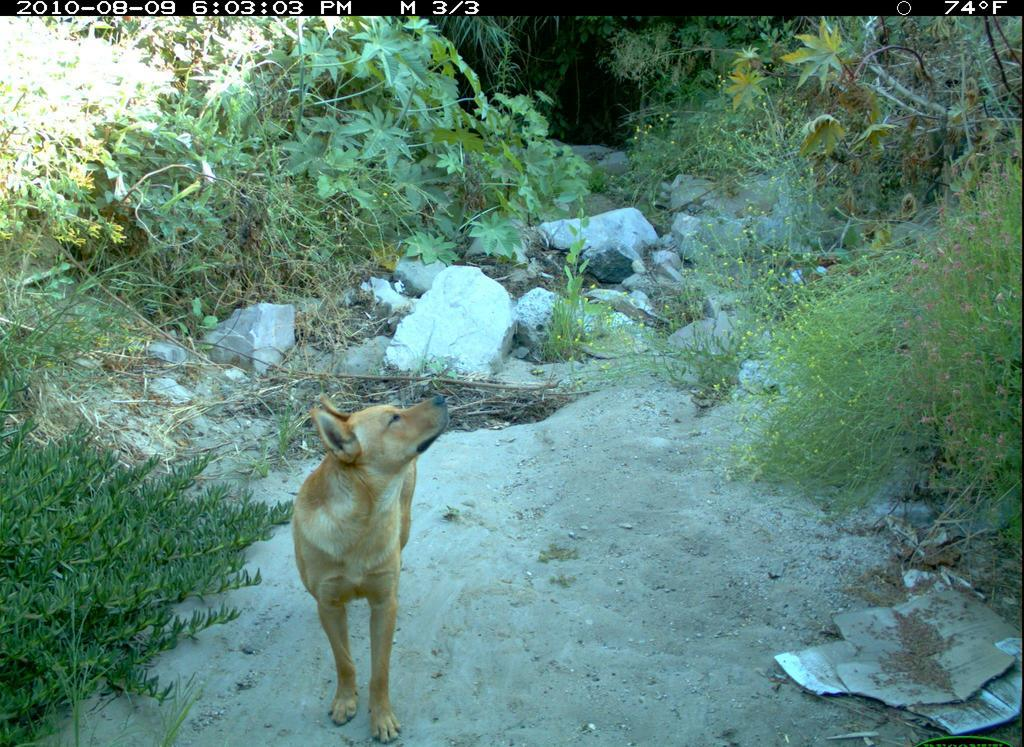dog: (287, 393, 452, 745)
